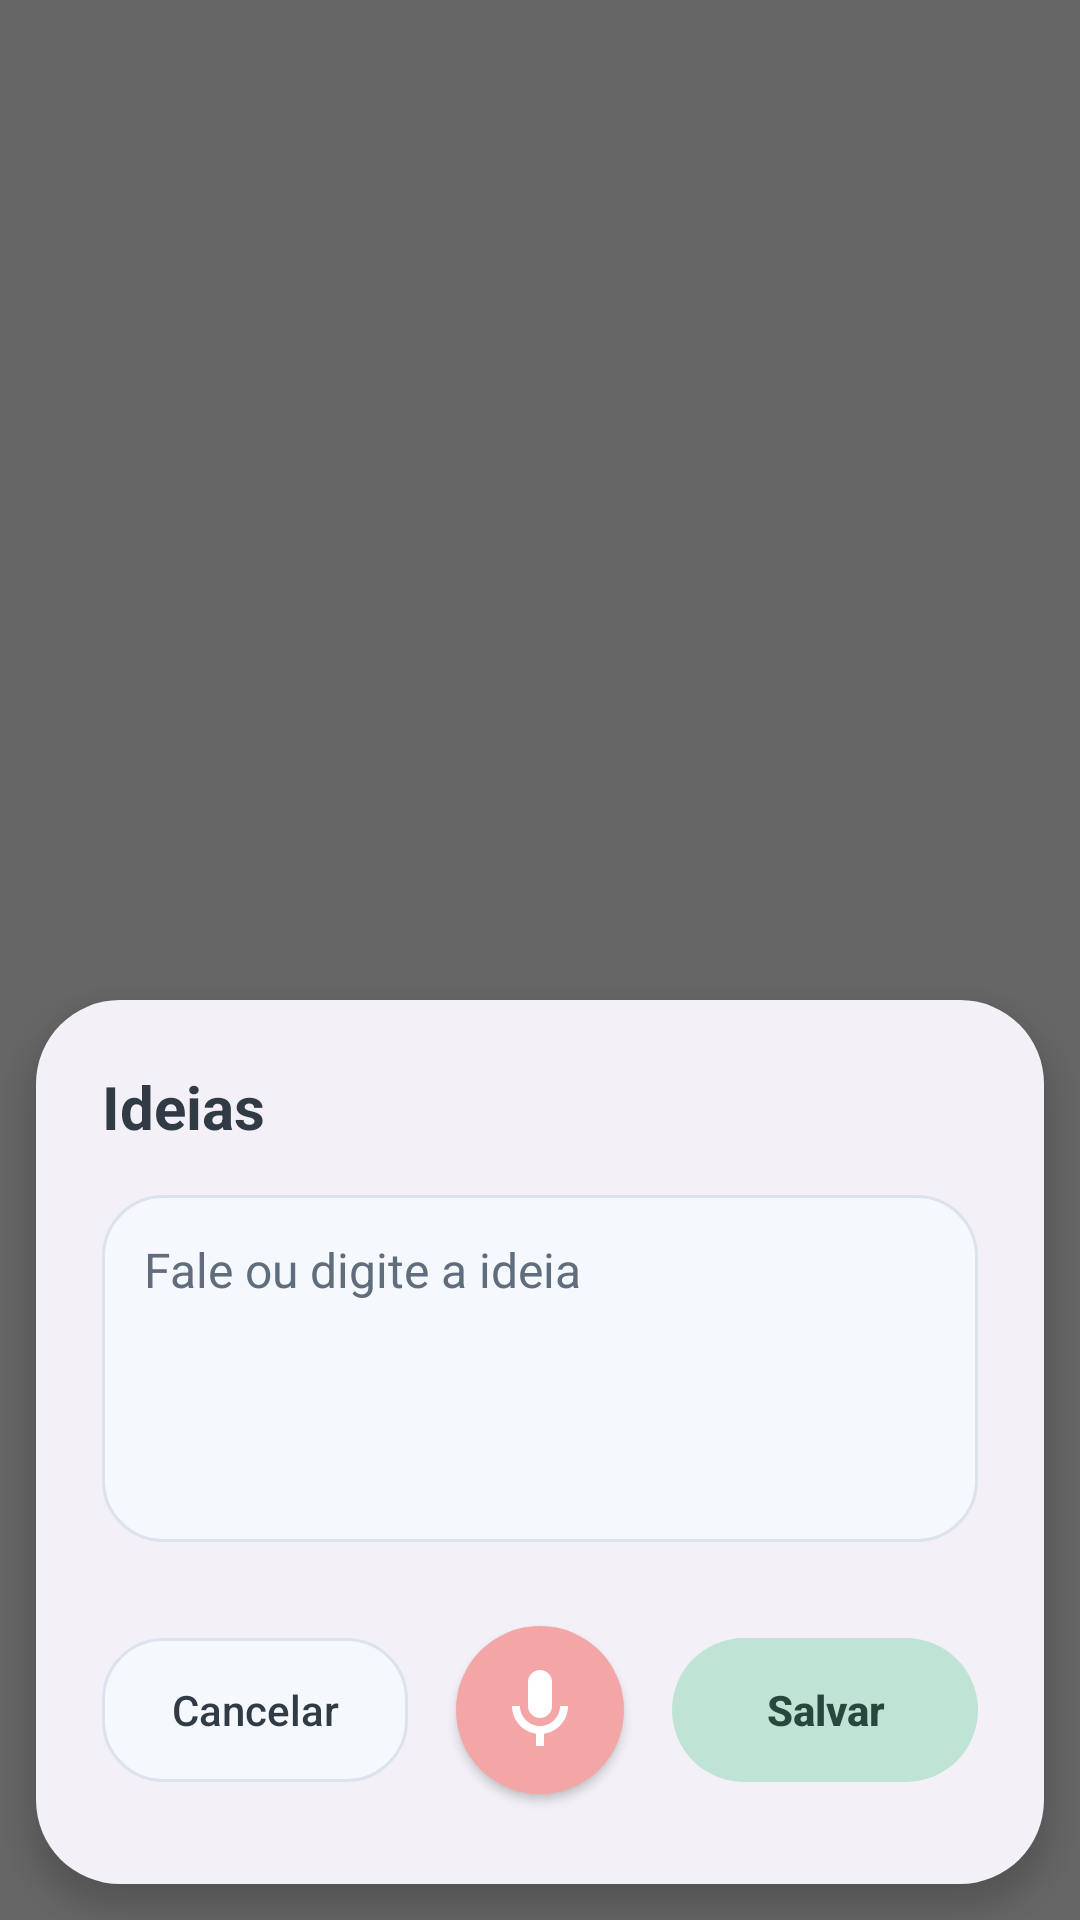

Where to tap for icons on this 1080 x 1920 app screen, as [x,y]:
Gravar ideia: [540,1710]
